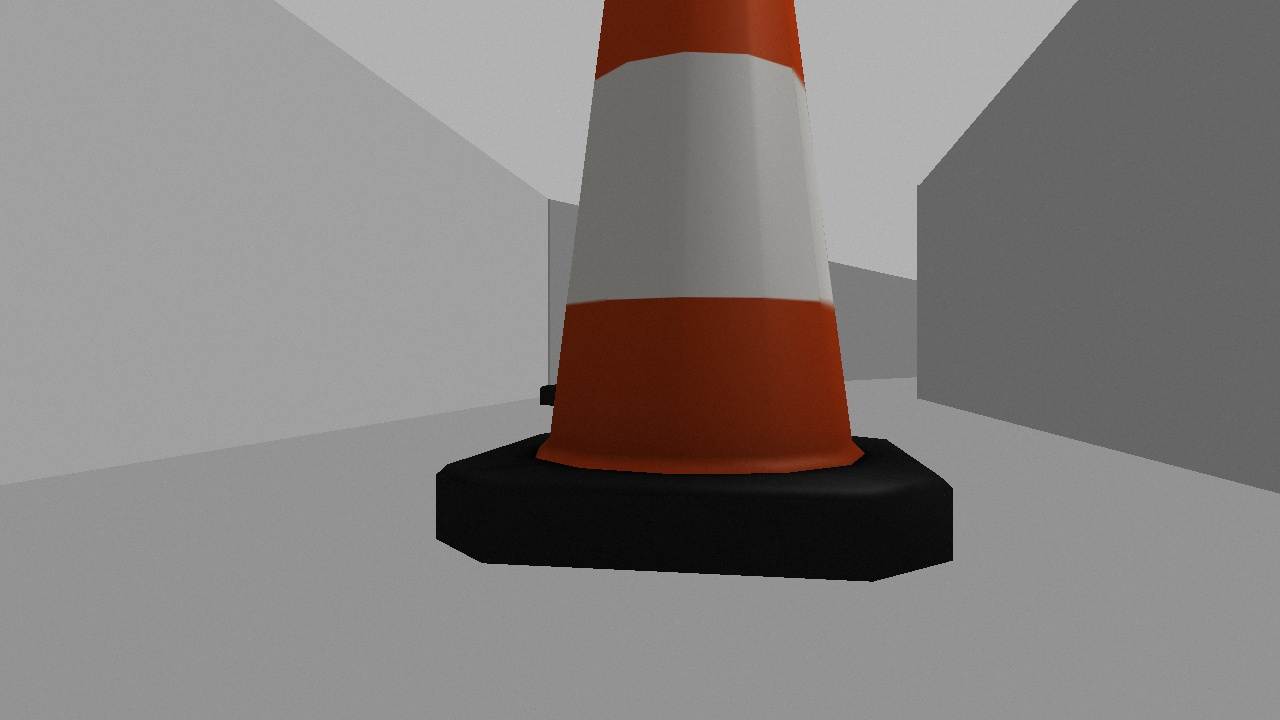barricade: (437, 1, 956, 583)
